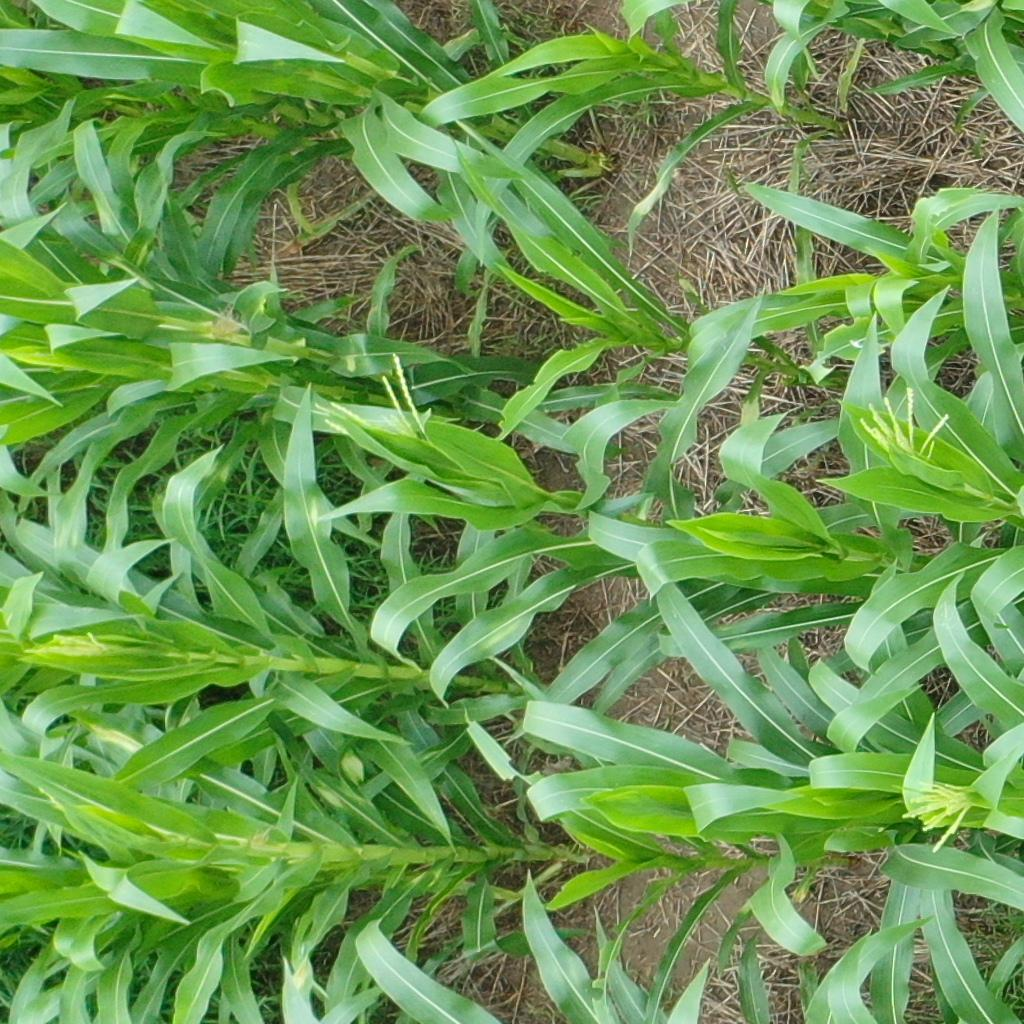Tassel: (312, 352, 446, 459), (860, 386, 951, 468), (886, 777, 982, 854), (38, 626, 111, 671)
